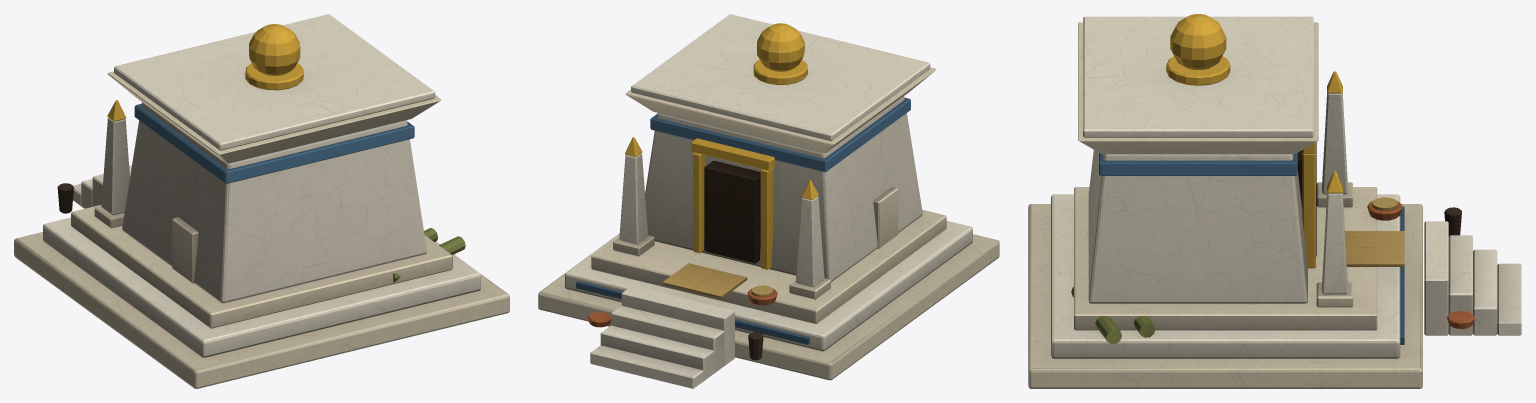
The model's file is shrine.glb.
3 renders of one model, left to right at view 1: azimuth 30°, elevation 25°; view 2: azimuth 150°, elevation 25°; view 3: azimuth 270°, elevation 25°, orthographic. The views are drawn at different scales.
Parts seen in each view (by area): view 1: shrine_stone_white, shrine_stone_pale, shrine_nile_blue, shrine_gold_leaf, shrine_crop_green, shrine_char_dark; view 2: shrine_stone_white, shrine_stone_pale, shrine_gold_leaf, shrine_door_dark, shrine_nile_blue, shrine_thatch_mat, shrine_pottery; view 3: shrine_stone_white, shrine_stone_pale, shrine_gold_leaf, shrine_nile_blue, shrine_thatch_mat, shrine_crop_green, shrine_pottery, shrine_char_dark.
Part boxes in pixels (bbox=[...]): shrine_stone_white: bbox=[43, 14, 480, 357]; shrine_stone_pale: bbox=[14, 71, 509, 388]; shrine_nile_blue: bbox=[134, 104, 414, 183]; shrine_gold_leaf: bbox=[107, 24, 303, 121]; shrine_crop_green: bbox=[393, 228, 465, 282]; shrine_char_dark: bbox=[57, 183, 73, 213]; shrine_stone_white: bbox=[565, 14, 972, 388]; shrine_stone_pale: bbox=[538, 67, 999, 380]; shrine_gold_leaf: bbox=[625, 23, 818, 269]; shrine_door_dark: bbox=[704, 160, 760, 263]; shrine_nile_blue: bbox=[576, 97, 910, 344]; shrine_thatch_mat: bbox=[662, 263, 747, 298]; shrine_pottery: bbox=[588, 288, 777, 327]; shrine_stone_white: bbox=[1051, 16, 1521, 358]; shrine_stone_pale: bbox=[1028, 22, 1422, 388]; shrine_gold_leaf: bbox=[1166, 14, 1342, 268]; shrine_nile_blue: bbox=[1099, 153, 1404, 344]; shrine_thatch_mat: bbox=[1345, 231, 1404, 266]; shrine_crop_green: bbox=[1071, 286, 1155, 344]; shrine_pottery: bbox=[1367, 201, 1474, 328]; shrine_char_dark: bbox=[1444, 207, 1461, 236].
Size of the model in its own units: 2.6 by 2.11 by 3.25.
Materials: 10 (6 with a texture image).
